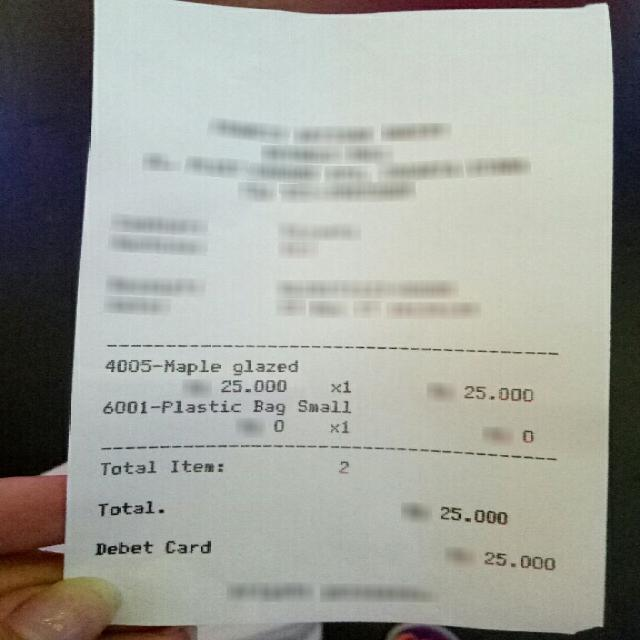kertas: (64, 0, 615, 633)
